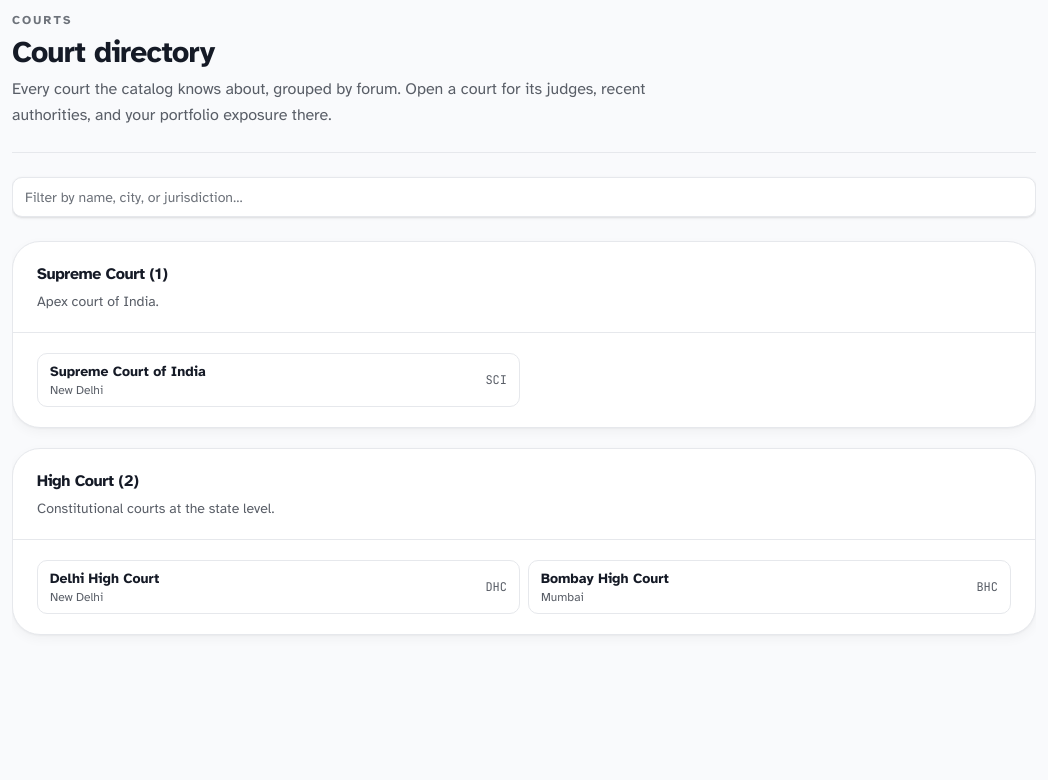
CourtsIndexPage › filters by search term (case-insensitive across name + city)
The image size is (1048, 780).
Expected: the text "Bombay High Court" is shown, x1=541 y1=569 x2=669 y2=589
Type "mumbai" into the field.
click(524, 197); type("mumbai")  # box x1=12 y1=177 x2=1036 y2=217
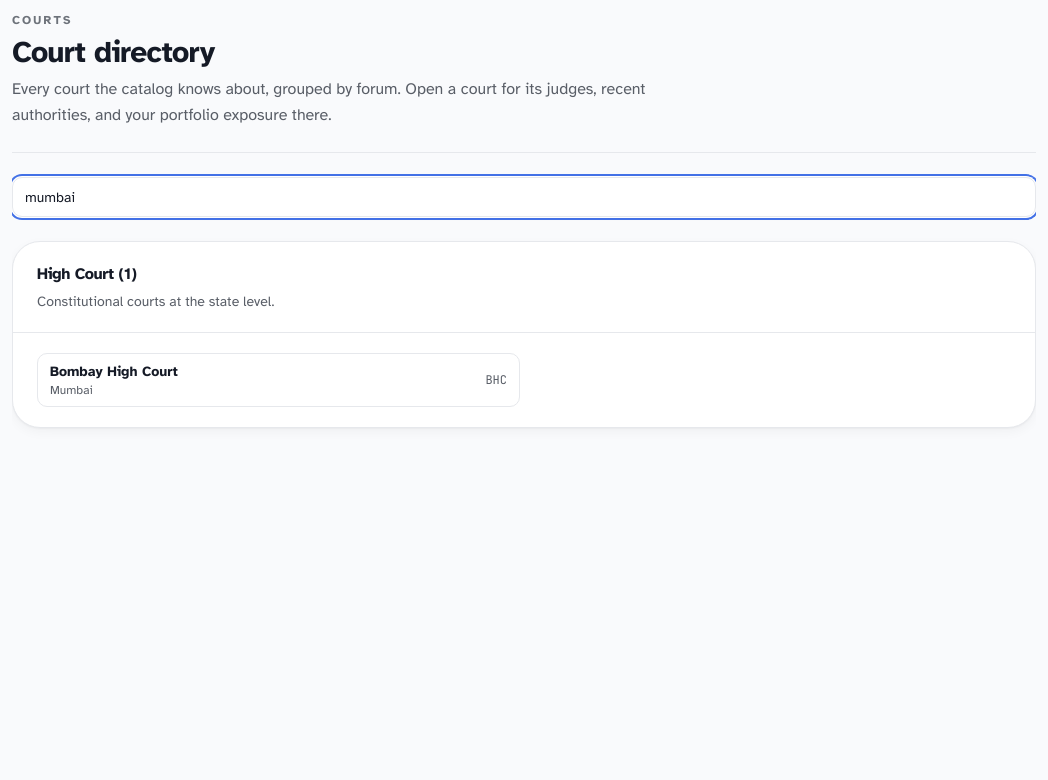
Expected: the text "Bombay High Court" is shown, x1=50 y1=362 x2=178 y2=382
Now the link "Delhi High Court" is gone
Now the link "Supreme Court of India" is gone
